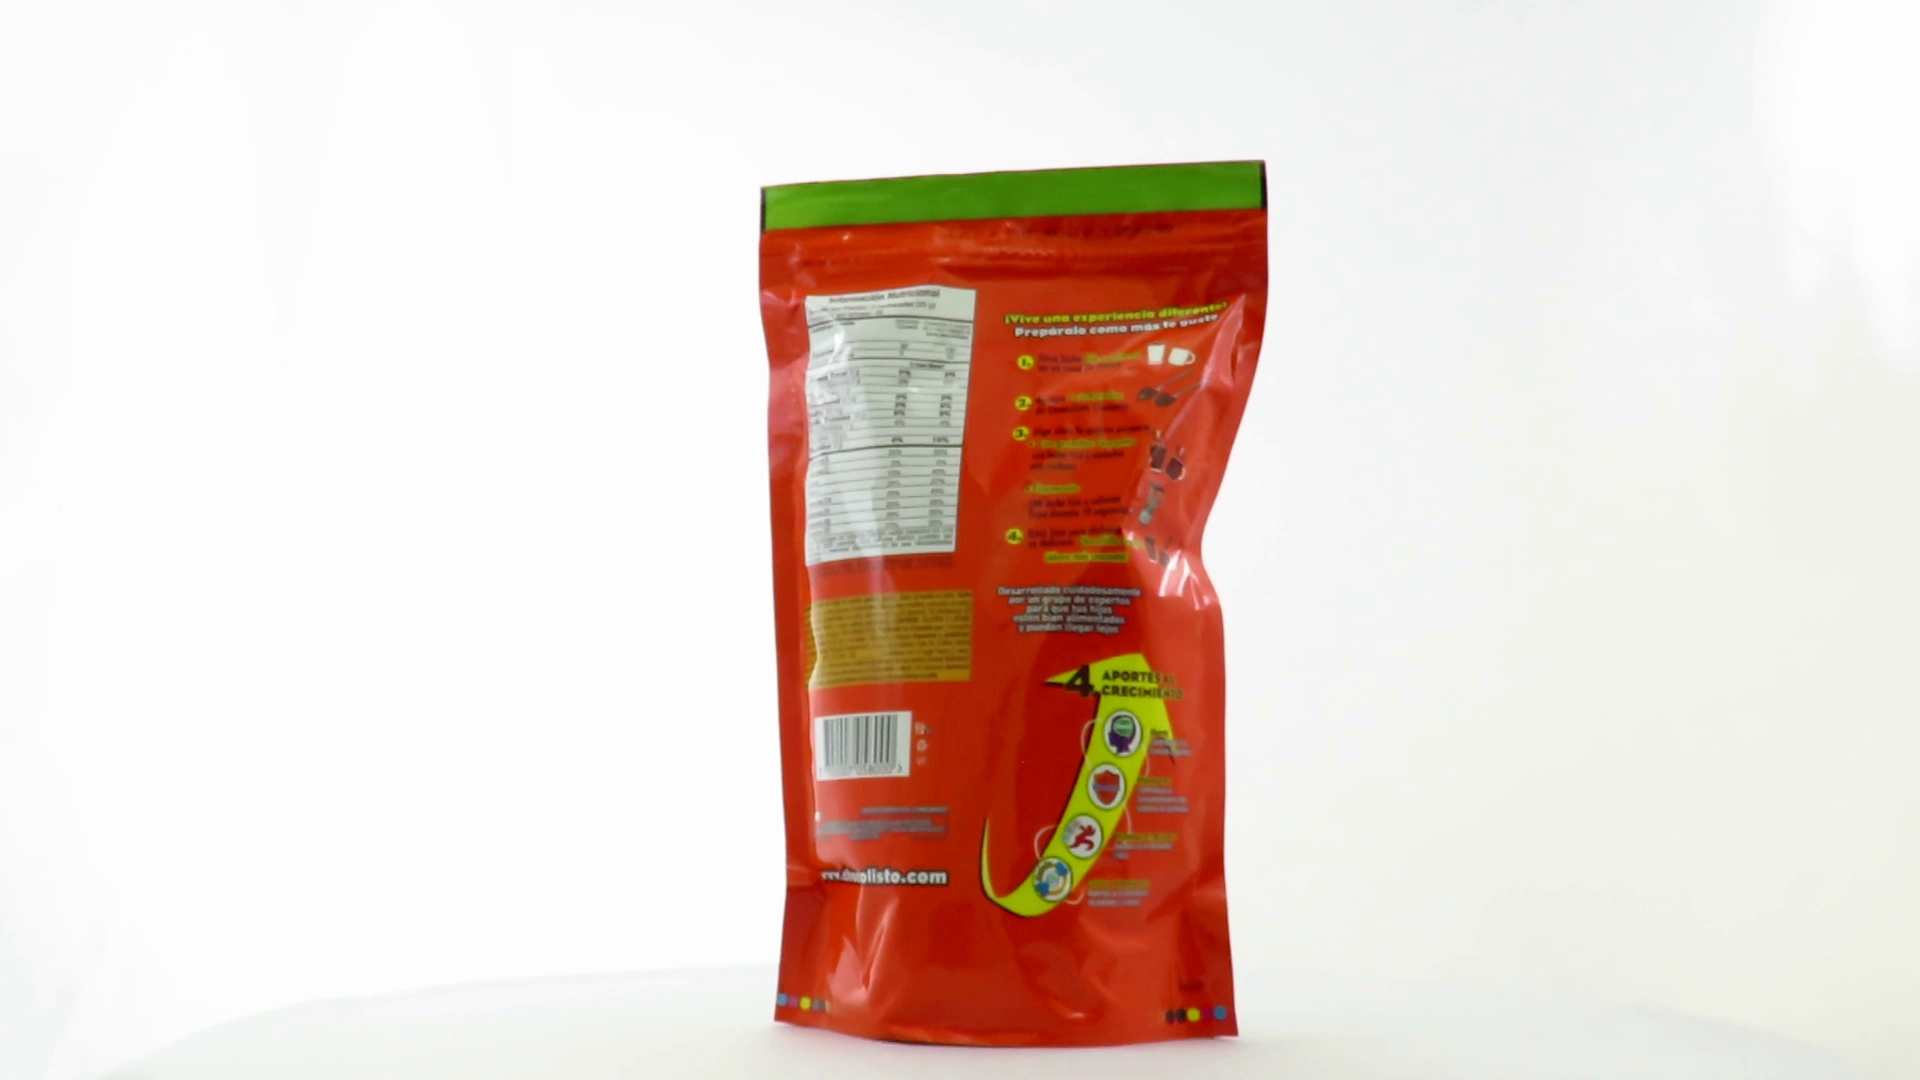COL0170102DYP50000: (753, 154, 1275, 1055)
